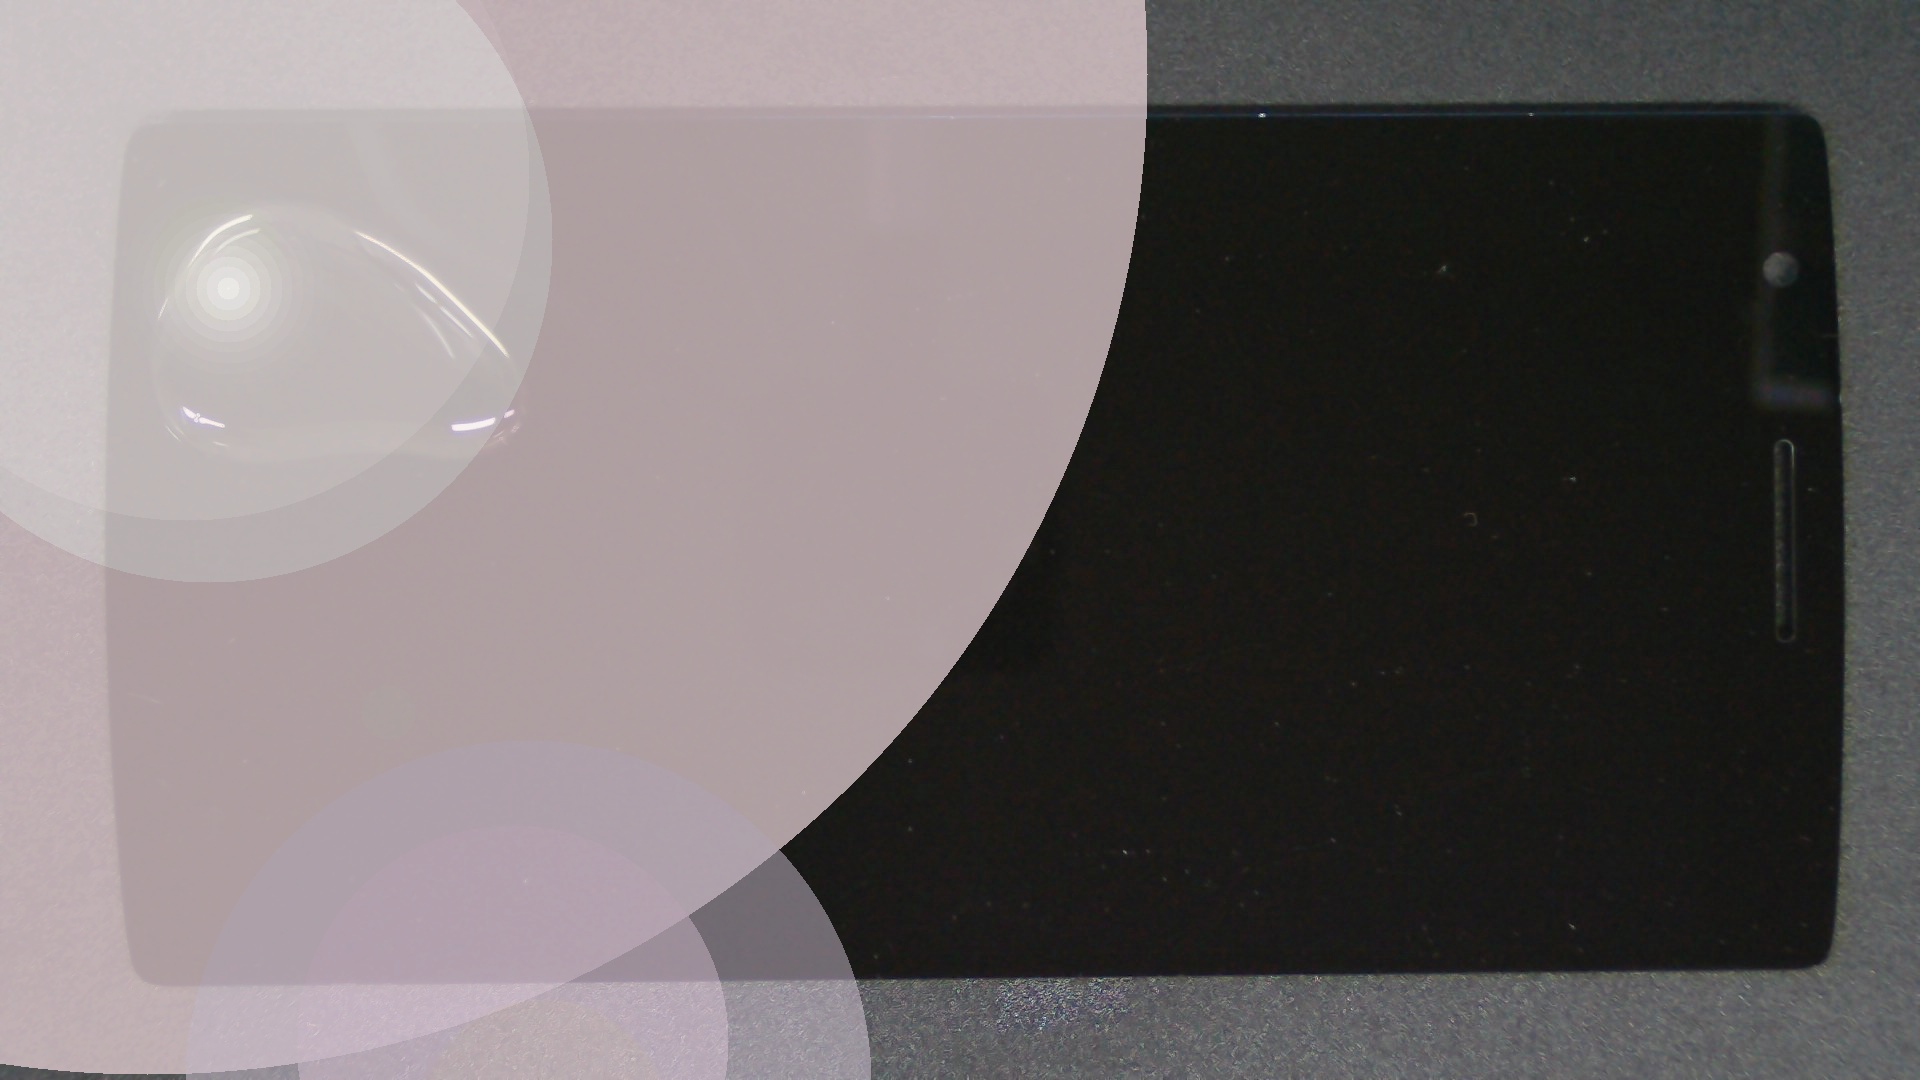oil: (141, 99, 421, 301)
